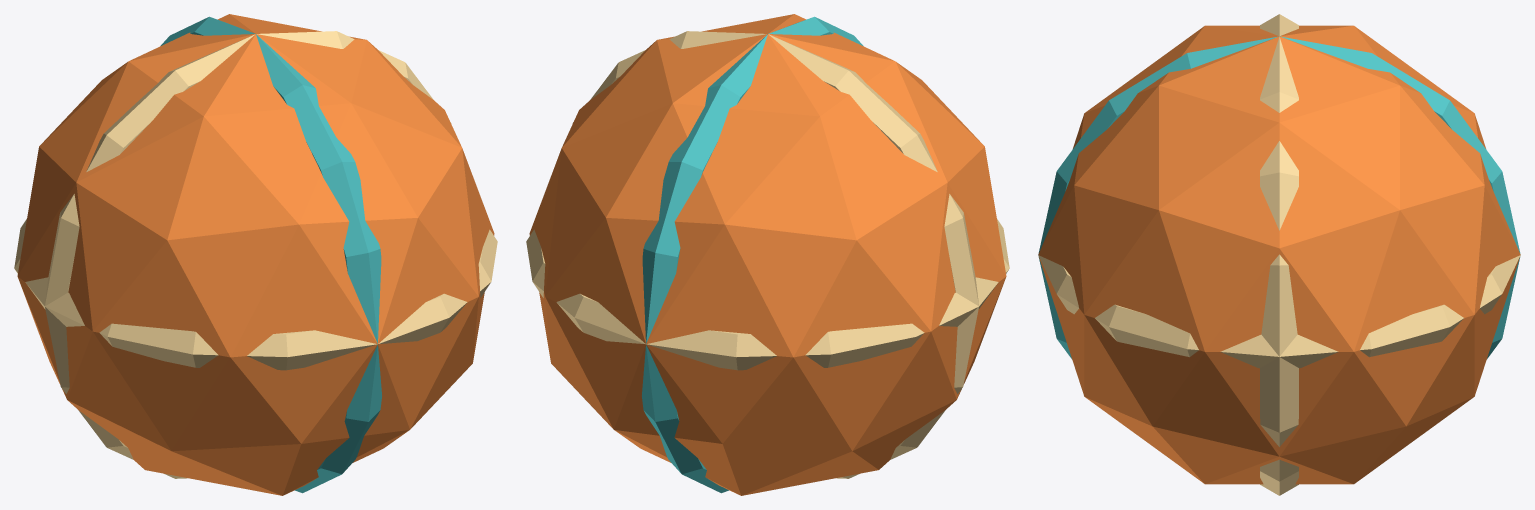
File: ActivityBall.fbx
The picture shows the model from 3 angles, left to right: view 1: azimuth 30°, elevation 25°; view 2: azimuth 150°, elevation 25°; view 3: azimuth 270°, elevation 25°; orthographic projection.
Visible parts, largest first — view 1: Ball_Core, Ball_Band_C, Ball_Band_A, Ball_Band_B; view 2: Ball_Core, Ball_Band_C, Ball_Band_A, Ball_Band_B; view 3: Ball_Core, Ball_Band_B, Ball_Band_A, Ball_Band_C.
Part boxes in pixels (x1=…): Ball_Core: x1=17, y1=14, x2=494, y2=495; Ball_Band_C: x1=160, y1=16, x2=381, y2=493; Ball_Band_A: x1=14, y1=219, x2=497, y2=370; Ball_Band_B: x1=45, y1=31, x2=451, y2=478; Ball_Core: x1=529, y1=14, x2=1006, y2=495; Ball_Band_C: x1=642, y1=16, x2=863, y2=493; Ball_Band_A: x1=526, y1=219, x2=1009, y2=370; Ball_Band_B: x1=572, y1=31, x2=978, y2=478; Ball_Core: x1=1038, y1=25, x2=1520, y2=484; Ball_Band_B: x1=1260, y1=14, x2=1298, y2=495; Ball_Band_A: x1=1038, y1=255, x2=1520, y2=368; Ball_Band_C: x1=1038, y1=36, x2=1520, y2=358.
Bounding box in the file's own units: 32 × 32 × 32.
